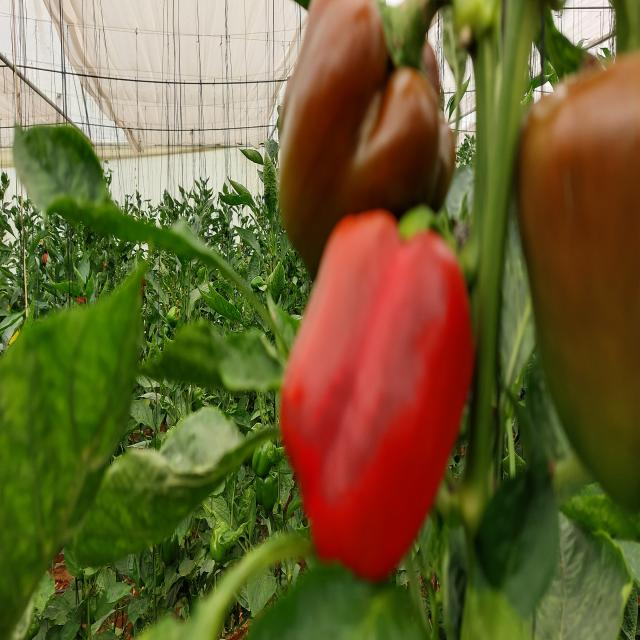BrownishRed--Can-be-Harvested: (513, 71, 640, 543), (271, 2, 459, 260)
Red-Ready-to-Harvest: (256, 197, 487, 580)
